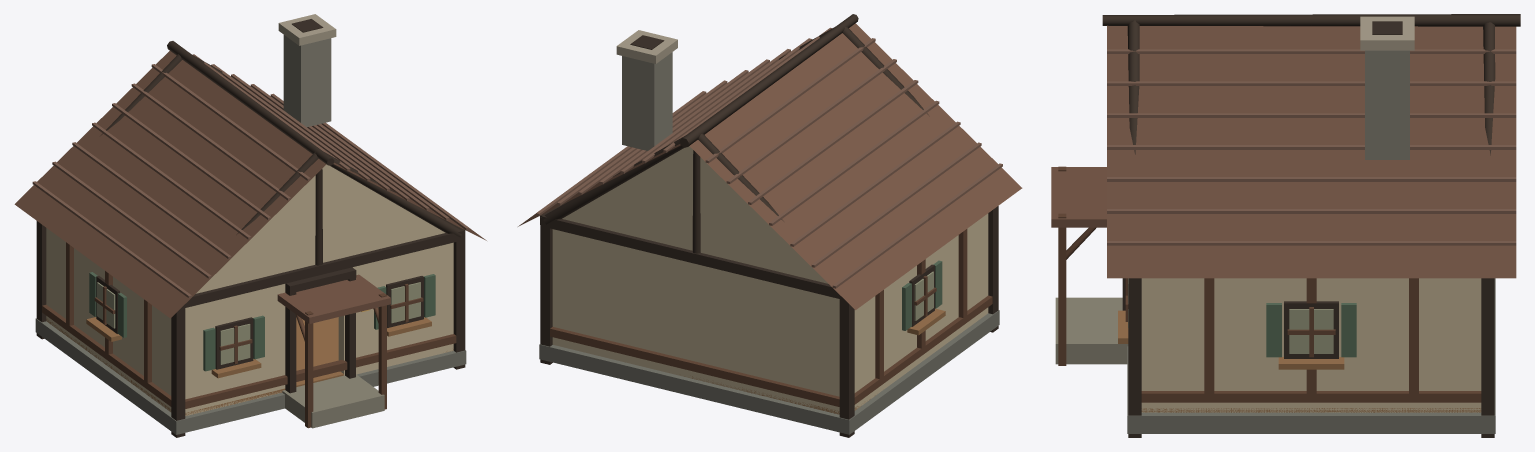
The model's file is Village_Cottage_6x5.glb.
3 renders of one model, left to right at view 1: azimuth 30°, elevation 25°; view 2: azimuth 150°, elevation 25°; view 3: azimuth 270°, elevation 25°, orthographic. The views are drawn at different scales.
Visible parts, largest first — view 1: _MeshInstance3D_4728, _MeshInstance3D_4698, _MeshInstance3D_4680, _MeshInstance3D_4683, _MeshInstance3D_4684, _MeshInstance3D_4678, _MeshInstance3D_4745, _MeshInstance3D_4751, _MeshInstance3D_4697, _MeshInstance3D_4766, _MeshInstance3D_4696, _MeshInstance3D_4679 (+40 smaller); view 2: _MeshInstance3D_4728, _MeshInstance3D_4682, _MeshInstance3D_4692, _MeshInstance3D_4678, _MeshInstance3D_4680, _MeshInstance3D_4745, _MeshInstance3D_4691, _MeshInstance3D_4690, _MeshInstance3D_4744, _MeshInstance3D_4686, _MeshInstance3D_4702, _MeshInstance3D_4688 (+23 smaller); view 3: _MeshInstance3D_4729, _MeshInstance3D_4681, _MeshInstance3D_4678, _MeshInstance3D_4745, _MeshInstance3D_4744, _MeshInstance3D_4751, _MeshInstance3D_4715, _MeshInstance3D_4766, _MeshInstance3D_4731, _MeshInstance3D_4733, _MeshInstance3D_4735, _MeshInstance3D_4688 (+18 smaller).
Part boxes in pixels (x1,y1,x2,y2): _MeshInstance3D_4728: (14, 51, 326, 318); _MeshInstance3D_4698: (196, 164, 445, 293); _MeshInstance3D_4680: (46, 228, 187, 414); _MeshInstance3D_4683: (185, 284, 285, 415); _MeshInstance3D_4684: (338, 242, 453, 375); _MeshInstance3D_4678: (35, 318, 466, 434); _MeshInstance3D_4745: (283, 35, 331, 127); _MeshInstance3D_4751: (282, 374, 384, 428); _MeshInstance3D_4697: (180, 227, 463, 309); _MeshInstance3D_4766: (277, 274, 390, 323); _MeshInstance3D_4696: (185, 334, 456, 408); _MeshInstance3D_4679: (46, 317, 453, 415); _MeshInstance3D_4728: (689, 23, 1022, 310); _MeshInstance3D_4682: (552, 229, 839, 413); _MeshInstance3D_4692: (562, 146, 828, 283); _MeshInstance3D_4678: (539, 310, 999, 434); _MeshInstance3D_4680: (837, 213, 988, 414); _MeshInstance3D_4745: (622, 52, 672, 150); _MeshInstance3D_4691: (542, 212, 845, 300); _MeshInstance3D_4690: (550, 327, 839, 406); _MeshInstance3D_4744: (679, 14, 858, 147); _MeshInstance3D_4686: (839, 299, 854, 437); _MeshInstance3D_4702: (854, 295, 992, 404); _MeshInstance3D_4688: (540, 217, 552, 364); _MeshInstance3D_4729: (1107, 25, 1516, 278); _MeshInstance3D_4681: (1141, 278, 1481, 412); _MeshInstance3D_4678: (1127, 278, 1495, 433); _MeshInstance3D_4745: (1365, 50, 1409, 159); _MeshInstance3D_4744: (1102, 14, 1520, 26); _MeshInstance3D_4751: (1055, 297, 1128, 364); _MeshInstance3D_4715: (1141, 391, 1481, 402); _MeshInstance3D_4766: (1051, 167, 1106, 227); _MeshInstance3D_4731: (1107, 241, 1516, 245); _MeshInstance3D_4733: (1107, 209, 1516, 213); _MeshInstance3D_4735: (1107, 177, 1516, 181); _MeshInstance3D_4688: (1481, 278, 1494, 437).
Bounding box in the file's own units: 6.8 × 5.82 × 6.64.
